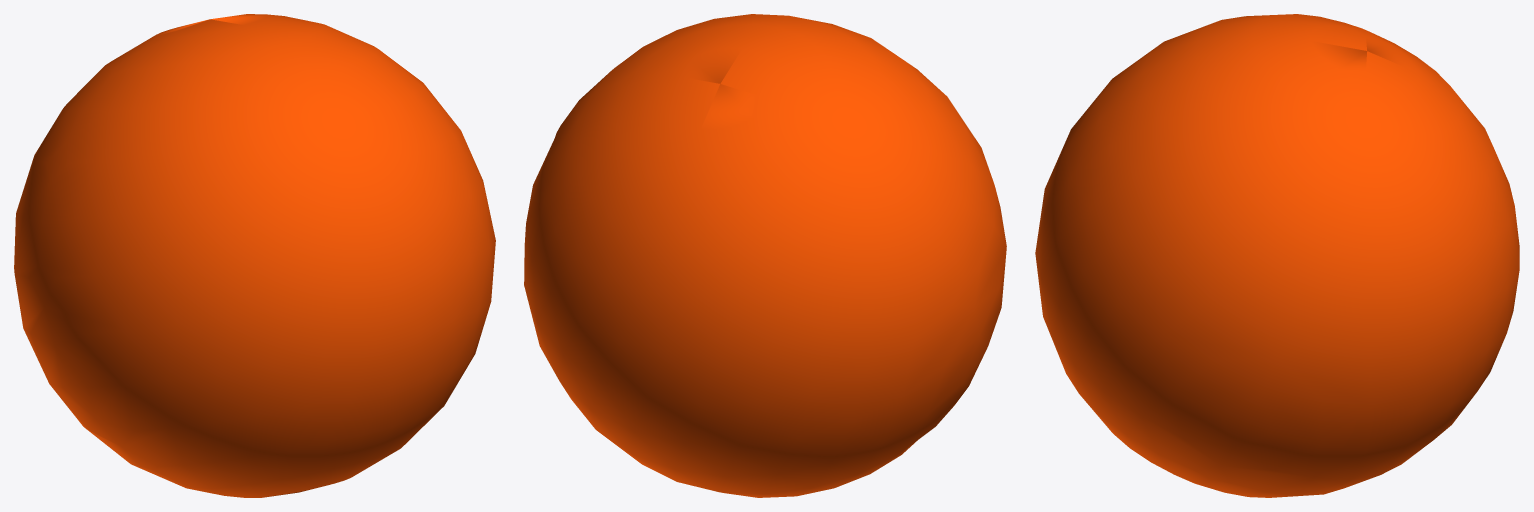
Rendered from orangeBall.glb.
The picture shows the model from 3 angles, left to right: view 1: azimuth 30°, elevation 25°; view 2: azimuth 150°, elevation 25°; view 3: azimuth 270°, elevation 25°; orthographic projection.
Visible parts, largest first — view 1: orangeBall; view 2: orangeBall; view 3: orangeBall.
Part boxes in pixels (bbox=[...]): orangeBall: bbox=[14, 14, 495, 497]; orangeBall: bbox=[524, 14, 1006, 497]; orangeBall: bbox=[1035, 14, 1519, 497].
Size of the model in its own units: 0.3851 by 0.3826 by 0.3839.
